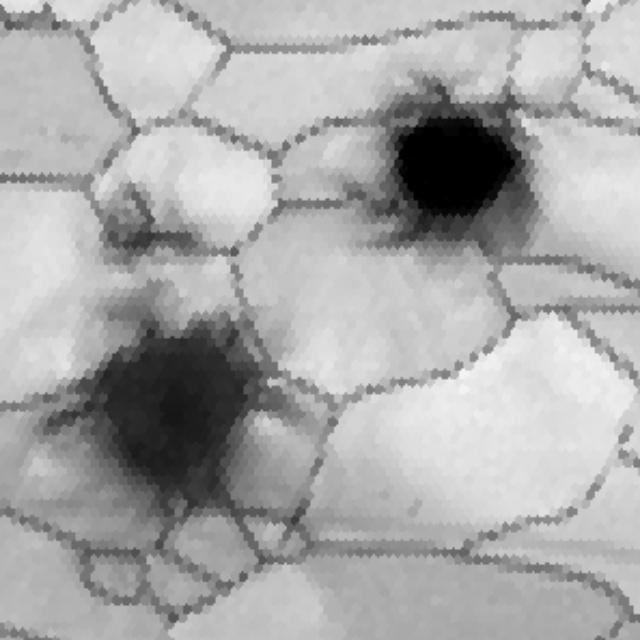good_void: (34, 284, 327, 519), (331, 83, 546, 262), (79, 181, 202, 275), (400, 495, 426, 525)
